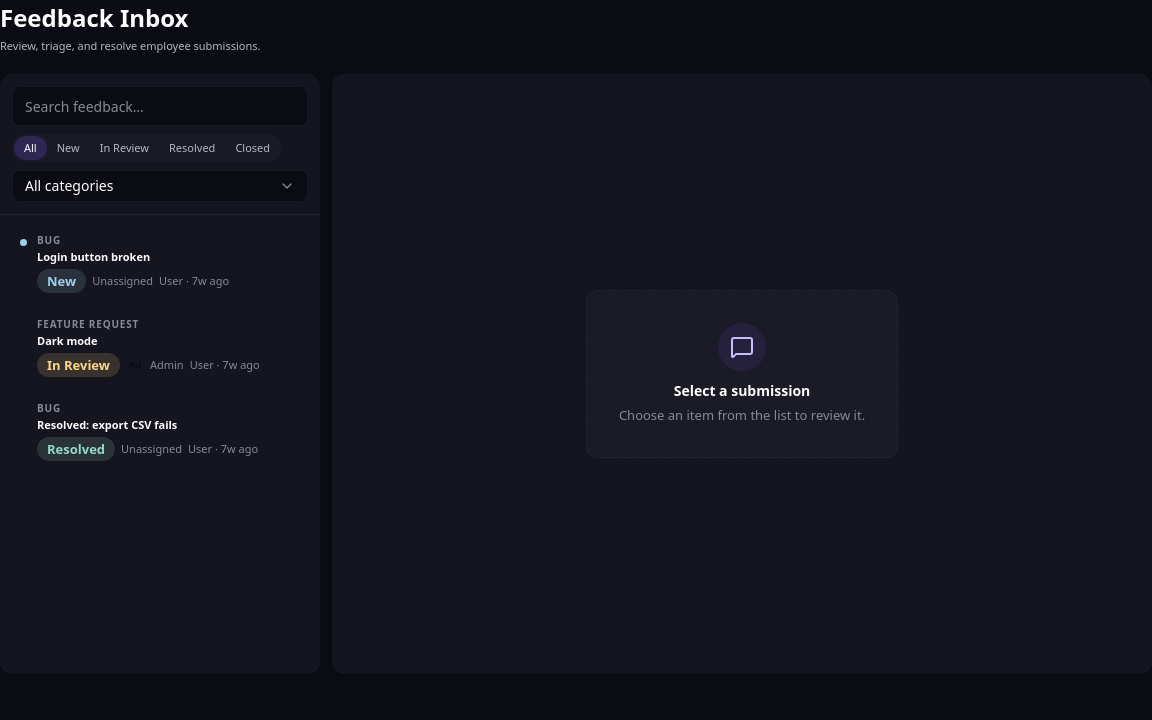
Scenario: FeedbackAdminPage › selecting resolved feedback → click Delete → confirm → removes item from list
The width and height of the screenshot is (1152, 720).
Select the resolved feedback row
Step 1. Click the text "Resolved: export CSV fails" → (107, 424), box [37,417,177,432]
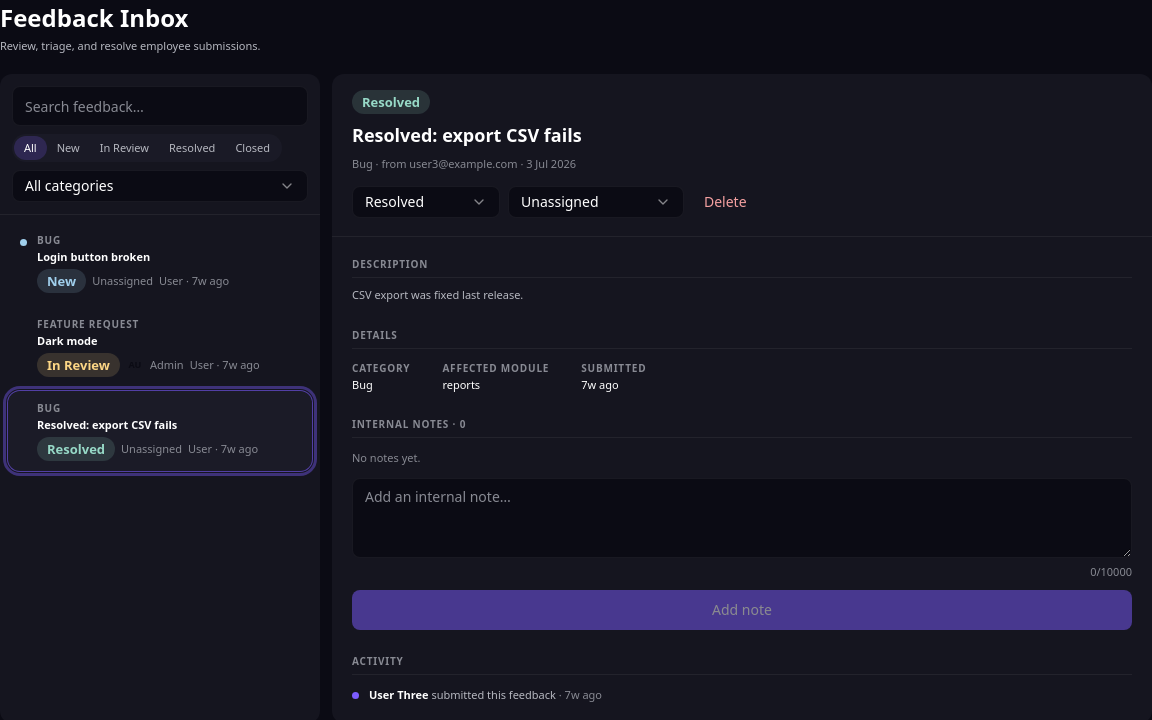
Check: the heading "Resolved: export CSV fails" is shown, box [352,123,582,147]
Delete button is visible (status is "resolved")
Step 2. Click the button "Delete" → (725, 202), box [692,184,759,220]
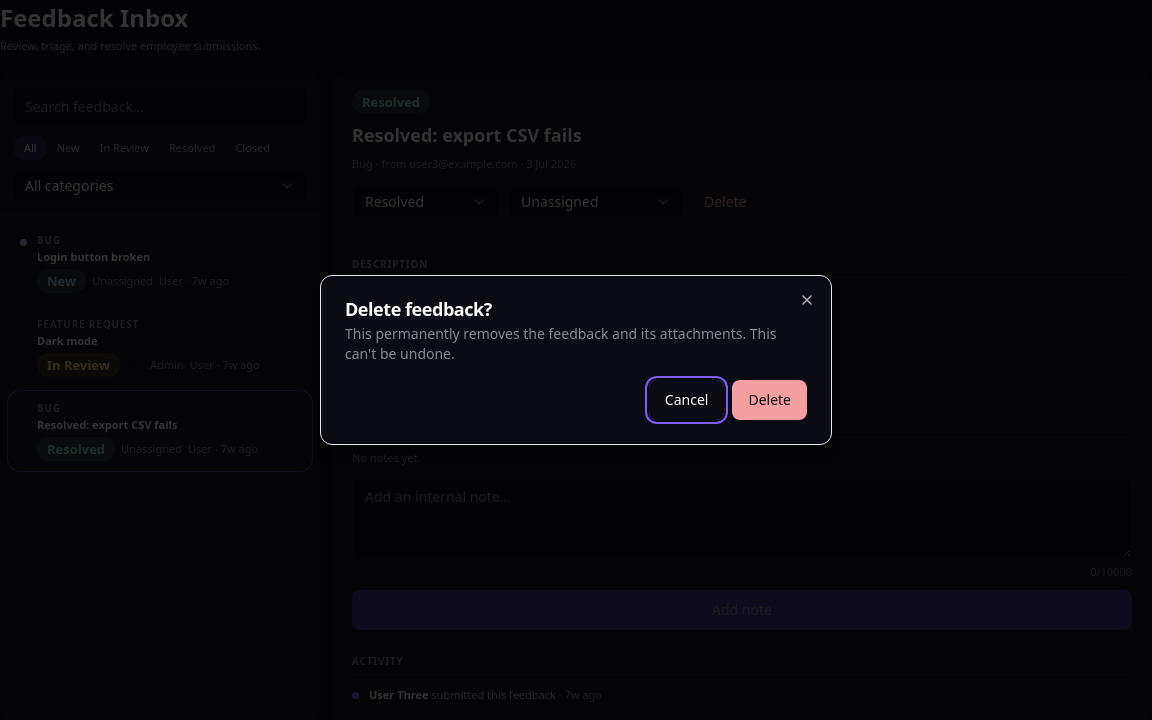
Confirm dialog appears
Step 3. Click the button "Delete" → (770, 400), box [732,380,807,420]
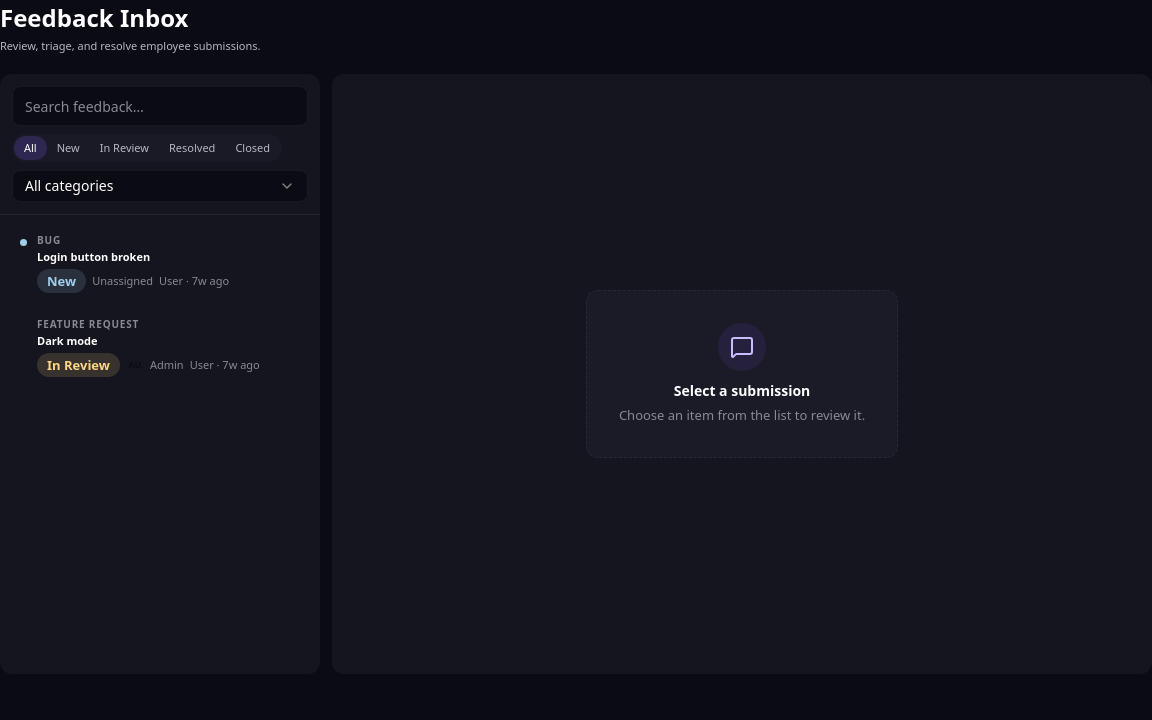
Check: the button "Resolved: export CSV fails" is gone
